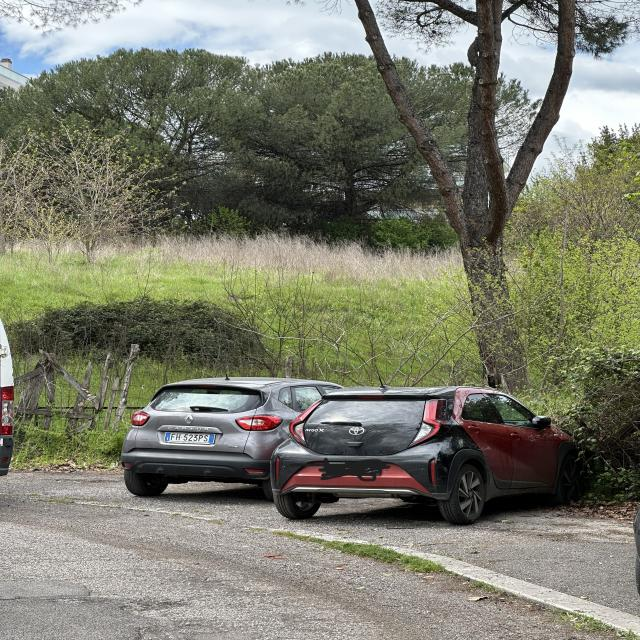number_plate: (164, 429, 217, 446)
